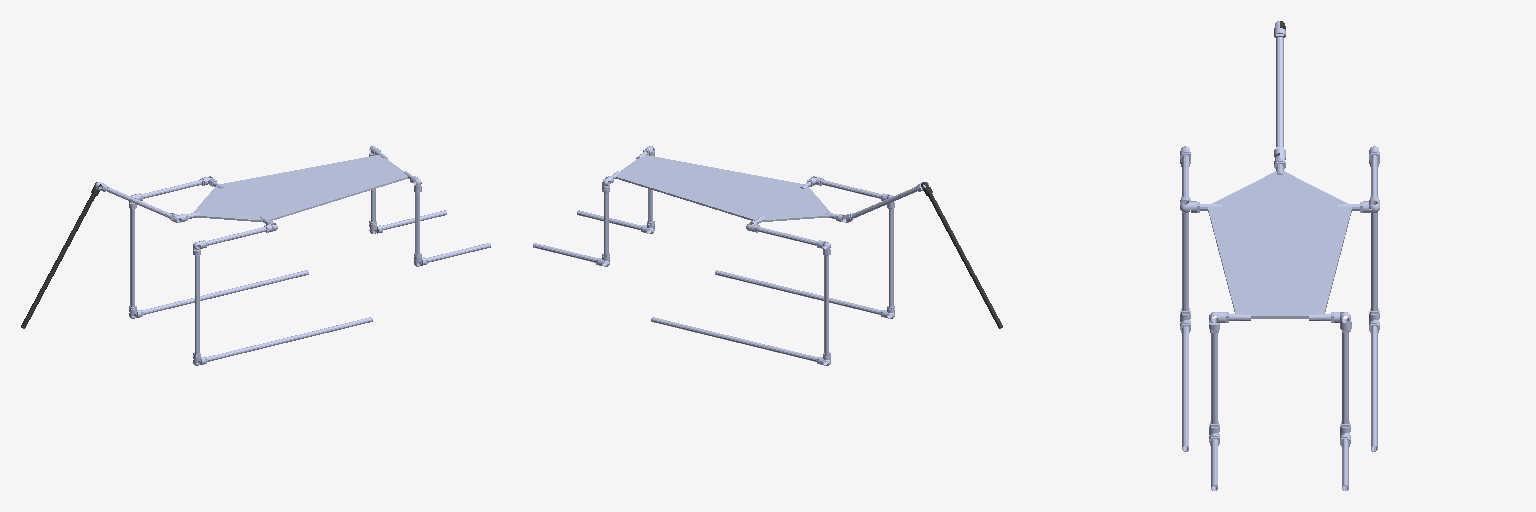
URDF robot description (Pterobot):
<?xml version="1.0" encoding="utf-8"?>
<!-- This URDF was automatically created by SolidWorks to URDF Exporter! Originally created by [author] ([email redacted]) 
     Commit Version: 1.6.0-4-g7f85cfe  Build Version: 1.6.7995.38578
     For more information, please see http://wiki.ros.org/sw_urdf_exporter -->
<robot
  name="Pterobot">
  <link
    name="torso">
    <inertial>
      <origin
        xyz="0.00585234292922584 -4.61140632321342E-06 -1.91001349893364E-10"
        rpy="0 0 0" />
      <mass
        value="0.0773188746224288" />
      <inertia
        ixx="6.9860296096866E-05"
        ixy="1.40112923199812E-09"
        ixz="4.97237598808152E-14"
        iyy="0.000482895505579539"
        iyz="2.80017694202807E-09"
        izz="0.000552618237292802" />
    </inertial>
    <visual>
      <origin
        xyz="0 0 0"
        rpy="0 0 0" />
      <geometry>
        <mesh
          filename="package://BA14/meshes/torso.STL" />
      </geometry>
      <material
        name="">
        <color
          rgba="0.792156862745098 0.819607843137255 0.933333333333333 1" />
      </material>
    </visual>
    <collision>
      <origin
        xyz="0 0 0"
        rpy="0 0 0" />
      <geometry>
        <mesh
          filename="package://BA14/meshes/torso.STL" />
      </geometry>
    </collision>
  </link>
  <link
    name="NeckBase">
    <inertial>
      <origin
        xyz="0.000645734028304206 8.91528981195044E-09 0.00570370451483394"
        rpy="0 0 0" />
      <mass
        value="0.000552160381379268" />
      <inertia
        ixx="1.37754406098898E-08"
        ixy="-1.03297312070412E-13"
        ixz="1.40112923189962E-09"
        iyy="1.28003109152368E-08"
        iyz="-4.97237598467118E-14"
        izz="8.09062527386862E-09" />
    </inertial>
    <visual>
      <origin
        xyz="0 0 0"
        rpy="0 0 0" />
      <geometry>
        <mesh
          filename="package://BA14/meshes/NeckBase.STL" />
      </geometry>
      <material
        name="">
        <color
          rgba="0.792156862745098 0.819607843137255 0.933333333333333 1" />
      </material>
    </visual>
    <collision>
      <origin
        xyz="0 0 0"
        rpy="0 0 0" />
      <geometry>
        <mesh
          filename="package://BA14/meshes/NeckBase.STL" />
      </geometry>
    </collision>
  </link>
  <joint
    name="NeckUpDown"
    type="revolute">
    <origin
      xyz="-0.17145 0 0"
      rpy="0 0 1.5708" />
    <parent
      link="torso" />
    <child
      link="NeckBase" />
    <axis
      xyz="-1 0 0" />
    <limit
      lower="0.5"
      upper="1.5"
      effort="3"
      velocity="0" />
  </joint>
  <link
    name="Neck">
    <inertial>
      <origin
        xyz="-0.000127501350431326 1.76033779220042E-09 0.0698158019260741"
        rpy="0 0 0" />
      <mass
        value="0.00279643114473697" />
      <inertia
        ixx="3.03953806643145E-06"
        ixy="1.03297312075808E-13"
        ixz="1.40112923189963E-09"
        iyy="3.03856293673679E-06"
        iyz="4.9723759656622E-14"
        izz="2.66420198842443E-08" />
    </inertial>
    <visual>
      <origin
        xyz="0 0 0"
        rpy="0 0 0" />
      <geometry>
        <mesh
          filename="package://BA14/meshes/Neck.STL" />
      </geometry>
      <material
        name="">
        <color
          rgba="0.792156862745098 0.819607843137255 0.933333333333333 1" />
      </material>
    </visual>
    <collision>
      <origin
        xyz="0 0 0"
        rpy="0 0 0" />
      <geometry>
        <mesh
          filename="package://BA14/meshes/Neck.STL" />
      </geometry>
    </collision>
  </link>
  <joint
    name="NeckYaw"
    type="revolute">
    <origin
      xyz="0 0 0.0127"
      rpy="0 0 0" />
    <parent
      link="NeckBase" />
    <child
      link="Neck" />
    <axis
      xyz="0 0 1" />
    <limit
      lower="-1.3"
      upper="1.3"
      effort="3"
      velocity="0" />
  </joint>
  <link
    name="Head">
    <inertial>
      <origin
        xyz="8.60606560195873E-05 1.18819151739835E-09 0.0943230531777287"
        rpy="0 0 0" />
      <mass
        value="0.00414299360275159" />
      <inertia
        ixx="1.23841470155012E-05"
        ixy="-1.03297312067069E-13"
        ixz="1.40112923189945E-09"
        iyy="1.23831718858066E-05"
        iyz="-4.97237594682395E-14"
        izz="3.77728566504696E-08" />
    </inertial>
    <visual>
      <origin
        xyz="0 0 0"
        rpy="0 0 0" />
      <geometry>
        <mesh
          filename="package://BA14/meshes/Head.STL" />
      </geometry>
      <material
        name="">
        <color
          rgba="0.298039215686275 0.298039215686275 0.298039215686275 1" />
      </material>
    </visual>
    <collision>
      <origin
        xyz="0 0 0"
        rpy="0 0 0" />
      <geometry>
        <mesh
          filename="package://BA14/meshes/Head.STL" />
      </geometry>
    </collision>
  </link>
  <joint
    name="HUpDown"
    type="revolute">
    <origin
      xyz="0 0 0.127"
      rpy="-1.5708 0 0" />
    <parent
      link="Neck" />
    <child
      link="Head" />
    <axis
      xyz="1 0 0" />
    <limit
      lower="-1"
      upper="1"
      effort="3"
      velocity="0" />
  </joint>
  <link
    name="LWingBase">
    <inertial>
      <origin
        xyz="-8.91528981195044E-09 -0.000645734028303767 0.00699629548516618"
        rpy="0 0 0" />
      <mass
        value="0.000552160381379266" />
      <inertia
        ixx="1.28003109152368E-08"
        ixy="-1.03297312074626E-13"
        ixz="-4.9723759856831E-14"
        iyy="1.37754406098898E-08"
        iyz="1.40112923189963E-09"
        izz="8.09062527386861E-09" />
    </inertial>
    <visual>
      <origin
        xyz="0 0 0"
        rpy="0 0 0" />
      <geometry>
        <mesh
          filename="package://BA14/meshes/LWingBase.STL" />
      </geometry>
      <material
        name="">
        <color
          rgba="0.792156862745098 0.819607843137255 0.933333333333333 1" />
      </material>
    </visual>
    <collision>
      <origin
        xyz="0 0 0"
        rpy="0 0 0" />
      <geometry>
        <mesh
          filename="package://BA14/meshes/LWingBase.STL" />
      </geometry>
    </collision>
  </link>
  <joint
    name="LShouldRot"
    type="revolute">
    <origin
      xyz="-0.0762 -0.06985 0"
      rpy="-1.5708 0 -3.1416" />
    <parent
      link="torso" />
    <child
      link="LWingBase" />
    <axis
      xyz="0 0 1" />
    <limit
      lower="-0.3"
      upper="1.5"
      effort="3"
      velocity="0" />
  </joint>
  <link
    name="LWingProx">
    <inertial>
      <origin
        xyz="-0.000122960676808948 0.000122960676809505 0.05715"
        rpy="0 0 0" />
      <mass
        value="0.00289973737344469" />
      <inertia
        ixx="1.57843761676966E-06"
        ixy="2.06594624151742E-13"
        ixz="1.40117895565942E-09"
        iyy="1.57843761676966E-06"
        iyz="1.4011789556595E-09"
        izz="3.10223662360377E-08" />
    </inertial>
    <visual>
      <origin
        xyz="0 0 0"
        rpy="0 0 0" />
      <geometry>
        <mesh
          filename="package://BA14/meshes/LWingProx.STL" />
      </geometry>
      <material
        name="">
        <color
          rgba="0.792156862745098 0.819607843137255 0.933333333333333 1" />
      </material>
    </visual>
    <collision>
      <origin
        xyz="0 0 0"
        rpy="0 0 0" />
      <geometry>
        <mesh
          filename="package://BA14/meshes/LWingProx.STL" />
      </geometry>
    </collision>
  </link>
  <joint
    name="LShouldExt"
    type="revolute">
    <origin
      xyz="0 0 0.0127"
      rpy="0 1.5708 0" />
    <parent
      link="LWingBase" />
    <child
      link="LWingProx" />
    <axis
      xyz="0 1 0" />
    <limit
      lower="-1.5"
      upper="0.3"
      effort="3"
      velocity="0" />
  </joint>
  <link
    name="LWingDist">
    <inertial>
      <origin
        xyz="-1.11022302462516E-16 2.59261859203441E-09 0.0825500000000042"
        rpy="0 0 0" />
      <mass
        value="0.00379744567878778" />
      <inertia
        ixx="5.25117113046229E-06"
        ixy="1.0677299088109E-23"
        ixz="2.80225846379924E-09"
        iyy="5.24922087107298E-06"
        iyz="-1.5919446013748E-22"
        izz="3.8442924080188E-08" />
    </inertial>
    <visual>
      <origin
        xyz="0 0 0"
        rpy="0 0 0" />
      <geometry>
        <mesh
          filename="package://BA14/meshes/LWingDist.STL" />
      </geometry>
      <material
        name="">
        <color
          rgba="0.792156862745098 0.819607843137255 0.933333333333333 1" />
      </material>
    </visual>
    <collision>
      <origin
        xyz="0 0 0"
        rpy="0 0 0" />
      <geometry>
        <mesh
          filename="package://BA14/meshes/LWingDist.STL" />
      </geometry>
    </collision>
  </link>
  <joint
    name="LElbow"
    type="revolute">
    <origin
      xyz="0 0 0.1143"
      rpy="-1.5708 0 0" />
    <parent
      link="LWingProx" />
    <child
      link="LWingDist" />
    <axis
      xyz="-1 0 0" />
    <limit
      lower="-1.3"
      upper="1.3"
      effort="3"
      velocity="0" />
  </joint>
  <link
    name="LWingPhal">
    <inertial>
      <origin
        xyz="7.0733948136642E-05 9.76581676637167E-10 0.119367576821282"
        rpy="0 0 0" />
      <mass
        value="0.00504070190809468" />
      <inertia
        ixx="2.41642222633512E-05"
        ixy="-1.03297312079344E-13"
        ixz="1.40112923183646E-09"
        iyy="2.41632471336566E-05"
        iyz="-4.97237569950302E-14"
        izz="4.51934144946199E-08" />
    </inertial>
    <visual>
      <origin
        xyz="0 0 0"
        rpy="0 0 0" />
      <geometry>
        <mesh
          filename="package://BA14/meshes/LWingPhal.STL" />
      </geometry>
      <material
        name="">
        <color
          rgba="0.792156862745098 0.819607843137255 0.933333333333333 1" />
      </material>
    </visual>
    <collision>
      <origin
        xyz="0 0 0"
        rpy="0 0 0" />
      <geometry>
        <mesh
          filename="package://BA14/meshes/LWingPhal.STL" />
      </geometry>
    </collision>
  </link>
  <joint
    name="LWrist"
    type="revolute">
    <origin
      xyz="0 0 0.1651"
      rpy="-1.5708 0 0" />
    <parent
      link="LWingDist" />
    <child
      link="LWingPhal" />
    <axis
      xyz="-1 0 0" />
    <limit
      lower="-1.3"
      upper="1.3"
      effort="3"
      velocity="0" />
  </joint>
  <link
    name="RWingBase">
    <inertial>
      <origin
        xyz="-8.91528981195044E-09 -0.000645734028303765 0.00699629548516618"
        rpy="0 0 0" />
      <mass
        value="0.000552160381379266" />
      <inertia
        ixx="1.28003109152368E-08"
        ixy="-1.03297312067074E-13"
        ixz="-4.97237598611654E-14"
        iyy="1.37754406098898E-08"
        iyz="1.40112923189963E-09"
        izz="8.09062527386859E-09" />
    </inertial>
    <visual>
      <origin
        xyz="0 0 0"
        rpy="0 0 0" />
      <geometry>
        <mesh
          filename="package://BA14/meshes/RWingBase.STL" />
      </geometry>
      <material
        name="">
        <color
          rgba="0.792156862745098 0.819607843137255 0.933333333333333 1" />
      </material>
    </visual>
    <collision>
      <origin
        xyz="0 0 0"
        rpy="0 0 0" />
      <geometry>
        <mesh
          filename="package://BA14/meshes/RWingBase.STL" />
      </geometry>
    </collision>
  </link>
  <joint
    name="RShouldRot"
    type="revolute">
    <origin
      xyz="-0.0762 0.06985 0"
      rpy="1.5708 0 3.1416" />
    <parent
      link="torso" />
    <child
      link="RWingBase" />
    <axis
      xyz="0 0 -1" />
    <limit
      lower="-0.3"
      upper="1.5"
      effort="3"
      velocity="0" />
  </joint>
  <link
    name="RWingProx">
    <inertial>
      <origin
        xyz="0.000122957281556979 0.000122957281556379 0.05715"
        rpy="0 0 0" />
      <mass
        value="0.00289973737344469" />
      <inertia
        ixx="1.57843761676966E-06"
        ixy="2.06594624143565E-13"
        ixz="-1.40107950813982E-09"
        iyy="1.57843761676966E-06"
        iyz="1.40107950813974E-09"
        izz="3.10223662360377E-08" />
    </inertial>
    <visual>
      <origin
        xyz="0 0 0"
        rpy="0 0 0" />
      <geometry>
        <mesh
          filename="package://BA14/meshes/RWingProx.STL" />
      </geometry>
      <material
        name="">
        <color
          rgba="0.792156862745098 0.819607843137255 0.933333333333333 1" />
      </material>
    </visual>
    <collision>
      <origin
        xyz="0 0 0"
        rpy="0 0 0" />
      <geometry>
        <mesh
          filename="package://BA14/meshes/RWingProx.STL" />
      </geometry>
    </collision>
  </link>
  <joint
    name="RShouldExt"
    type="revolute">
    <origin
      xyz="0 0 0.0127"
      rpy="0 1.5708 0" />
    <parent
      link="RWingBase" />
    <child
      link="RWingProx" />
    <axis
      xyz="0 1 0" />
    <limit
      lower="-1.5"
      upper="0.3"
      effort="3"
      velocity="0" />
  </joint>
  <link
    name="RWingDist">
    <inertial>
      <origin
        xyz="-9.71445146547012E-17 2.5926212288141E-09 0.0825499999999996"
        rpy="0 0 0" />
      <mass
        value="0.00379744567878777" />
      <inertia
        ixx="5.25117113046228E-06"
        ixy="2.44476929149704E-23"
        ixz="2.80225846379927E-09"
        iyy="5.24922087107297E-06"
        iyz="-1.55743591263034E-22"
        izz="3.84429240801879E-08" />
    </inertial>
    <visual>
      <origin
        xyz="0 0 0"
        rpy="0 0 0" />
      <geometry>
        <mesh
          filename="package://BA14/meshes/RWingDist.STL" />
      </geometry>
      <material
        name="">
        <color
          rgba="0.792156862745098 0.819607843137255 0.933333333333333 1" />
      </material>
    </visual>
    <collision>
      <origin
        xyz="0 0 0"
        rpy="0 0 0" />
      <geometry>
        <mesh
          filename="package://BA14/meshes/RWingDist.STL" />
      </geometry>
    </collision>
  </link>
  <joint
    name="RElbow"
    type="revolute">
    <origin
      xyz="0 0 0.1143"
      rpy="-1.5708 0 3.1416" />
    <parent
      link="RWingProx" />
    <child
      link="RWingDist" />
    <axis
      xyz="-1 0 0" />
    <limit
      lower="-1.3"
      upper="1.3"
      effort="3"
      velocity="0" />
  </joint>
  <link
    name="RWingPhal">
    <inertial>
      <origin
        xyz="7.07339481359065E-05 9.76584146883397E-10 0.119367576821284"
        rpy="0 0 0" />
      <mass
        value="0.00504070190809467" />
      <inertia
        ixx="2.41642222633512E-05"
        ixy="-1.03297312071531E-13"
        ixz="1.40112923196285E-09"
        iyy="2.41632471336565E-05"
        iyz="-4.97237570026385E-14"
        izz="4.51934144946199E-08" />
    </inertial>
    <visual>
      <origin
        xyz="0 0 0"
        rpy="0 0 0" />
      <geometry>
        <mesh
          filename="package://BA14/meshes/RWingPhal.STL" />
      </geometry>
      <material
        name="">
        <color
          rgba="0.792156862745098 0.819607843137255 0.933333333333333 1" />
      </material>
    </visual>
    <collision>
      <origin
        xyz="0 0 0"
        rpy="0 0 0" />
      <geometry>
        <mesh
          filename="package://BA14/meshes/RWingPhal.STL" />
      </geometry>
    </collision>
  </link>
  <joint
    name="RWrist"
    type="revolute">
    <origin
      xyz="0 0 0.1651"
      rpy="-1.5708 0 0" />
    <parent
      link="RWingDist" />
    <child
      link="RWingPhal" />
    <axis
      xyz="-1 0 0" />
    <limit
      lower="-1.3"
      upper="1.3"
      effort="3"
      velocity="0" />
  </joint>
  <link
    name="LLegBase">
    <inertial>
      <origin
        xyz="-0.000645734028303757 8.91528980958688E-09 0.00699629548516618"
        rpy="0 0 0" />
      <mass
        value="0.000552160381379267" />
      <inertia
        ixx="1.37754406098899E-08"
        ixy="1.03297312073489E-13"
        ixz="1.40112923189964E-09"
        iyy="1.28003109152368E-08"
        iyz="4.97237598782797E-14"
        izz="8.09062527386862E-09" />
    </inertial>
    <visual>
      <origin
        xyz="0 0 0"
        rpy="0 0 0" />
      <geometry>
        <mesh
          filename="package://BA14/meshes/LLegBase.STL" />
      </geometry>
      <material
        name="">
        <color
          rgba="0.792156862745098 0.819607843137255 0.933333333333333 1" />
      </material>
    </visual>
    <collision>
      <origin
        xyz="0 0 0"
        rpy="0 0 0" />
      <geometry>
        <mesh
          filename="package://BA14/meshes/LLegBase.STL" />
      </geometry>
    </collision>
  </link>
  <joint
    name="LHipRot"
    type="revolute">
    <origin
      xyz="0.1524 -0.04445 0"
      rpy="-1.5708 3.1416 3.1416" />
    <parent
      link="torso" />
    <child
      link="LLegBase" />
    <axis
      xyz="0 0 1" />
    <limit
      lower="-1.6"
      upper="1.6"
      effort="3"
      velocity="0" />
  </joint>
  <link
    name="LLegProx">
    <inertial>
      <origin
        xyz="-0.000122957281556986 -0.000122957281556979 0.05715"
        rpy="0 0 0" />
      <mass
        value="0.0028997373734447" />
      <inertia
        ixx="1.57843761676966E-06"
        ixy="2.06594624131838E-13"
        ixz="1.40107950813983E-09"
        iyy="1.57843761676966E-06"
        iyz="-1.4010795081398E-09"
        izz="3.10223662360378E-08" />
    </inertial>
    <visual>
      <origin
        xyz="0 0 0"
        rpy="0 0 0" />
      <geometry>
        <mesh
          filename="package://BA14/meshes/LLegProx.STL" />
      </geometry>
      <material
        name="">
        <color
          rgba="0.792156862745098 0.819607843137255 0.933333333333333 1" />
      </material>
    </visual>
    <collision>
      <origin
        xyz="0 0 0"
        rpy="0 0 0" />
      <geometry>
        <mesh
          filename="package://BA14/meshes/LLegProx.STL" />
      </geometry>
    </collision>
  </link>
  <joint
    name="LHipExt"
    type="revolute">
    <origin
      xyz="0 0 0.0127"
      rpy="1.5708 1.5708 0" />
    <parent
      link="LLegBase" />
    <child
      link="LLegProx" />
    <axis
      xyz="0 -1 0" />
    <limit
      lower="-0.3"
      upper="1.8"
      effort="3"
      velocity="0" />
  </joint>
  <link
    name="LLegDist">
    <inertial>
      <origin
        xyz="0.000151879469147971 2.09691432273562E-09 0.0450496061762181"
        rpy="0 0 0" />
      <mass
        value="0.00234757699206543" />
      <inertia
        ixx="1.56563730585442E-06"
        ixy="-1.03297312074645E-13"
        ixz="1.40112923189557E-09"
        iyy="1.56466217615977E-06"
        iyz="-4.9723759427933E-14"
        izz="2.29317409621691E-08" />
    </inertial>
    <visual>
      <origin
        xyz="0 0 0"
        rpy="0 0 0" />
      <geometry>
        <mesh
          filename="package://BA14/meshes/LLegDist.STL" />
      </geometry>
      <material
        name="">
        <color
          rgba="0.792156862745098 0.819607843137255 0.933333333333333 1" />
      </material>
    </visual>
    <collision>
      <origin
        xyz="0 0 0"
        rpy="0 0 0" />
      <geometry>
        <mesh
          filename="package://BA14/meshes/LLegDist.STL" />
      </geometry>
    </collision>
  </link>
  <joint
    name="LKnee"
    type="revolute">
    <origin
      xyz="0 0 0.1143"
      rpy="-1.5708 0 0" />
    <parent
      link="LLegProx" />
    <child
      link="LLegDist" />
    <axis
      xyz="-1 0 0" />
    <limit
      lower="-1.3"
      upper="1.3"
      effort="3"
      velocity="0" />
  </joint>
  <link
    name="RLegBase">
    <inertial>
      <origin
        xyz="0.000645734028324324 -8.91528982033507E-09 0.00699629548516616"
        rpy="0 0 0" />
      <mass
        value="0.000552160381379264" />
      <inertia
        ixx="1.37754406098897E-08"
        ixy="1.03297312073306E-13"
        ixz="-1.40112923189963E-09"
        iyy="1.28003109152367E-08"
        iyz="-4.97237598676163E-14"
        izz="8.09062527386858E-09" />
    </inertial>
    <visual>
      <origin
        xyz="0 0 0"
        rpy="0 0 0" />
      <geometry>
        <mesh
          filename="package://BA14/meshes/RLegBase.STL" />
      </geometry>
      <material
        name="">
        <color
          rgba="0.792156862745098 0.819607843137255 0.933333333333333 1" />
      </material>
    </visual>
    <collision>
      <origin
        xyz="0 0 0"
        rpy="0 0 0" />
      <geometry>
        <mesh
          filename="package://BA14/meshes/RLegBase.STL" />
      </geometry>
    </collision>
  </link>
  <joint
    name="RHipRot"
    type="revolute">
    <origin
      xyz="0.1524 0.04445 0"
      rpy="1.5708 0 3.1416" />
    <parent
      link="torso" />
    <child
      link="RLegBase" />
    <axis
      xyz="0 0 -1" />
    <limit
      lower="-1.6"
      upper="1.6"
      effort="3"
      velocity="0" />
  </joint>
  <link
    name="RLegProx">
    <inertial>
      <origin
        xyz="-0.0043411675939694 0.000122962237984026 0.0569817889646333"
        rpy="0 0 0" />
      <mass
        value="0.00289973850332923" />
      <inertia
        ixx="1.56949275761373E-06"
        ixy="2.03907189942025E-13"
        ixz="1.17137848321769E-07"
        iyy="1.57843761724558E-06"
        iyz="1.40118532452803E-09"
        izz="3.99672490915483E-08" />
    </inertial>
    <visual>
      <origin
        xyz="0 0 0"
        rpy="0 0 0" />
      <geometry>
        <mesh
          filename="package://BA14/meshes/RLegProx.STL" />
      </geometry>
      <material
        name="">
        <color
          rgba="0.792156862745098 0.819607843137255 0.933333333333333 1" />
      </material>
    </visual>
    <collision>
      <origin
        xyz="0 0 0"
        rpy="0 0 0" />
      <geometry>
        <mesh
          filename="package://BA14/meshes/RLegProx.STL" />
      </geometry>
    </collision>
  </link>
  <joint
    name="RHipExt"
    type="revolute">
    <origin
      xyz="0 0 0.0127"
      rpy="0 -1.4955 1.5708" />
    <parent
      link="RLegBase" />
    <child
      link="RLegProx" />
    <axis
      xyz="0 1 0" />
    <limit
      lower="-0.3"
      upper="1.8"
      effort="3"
      velocity="0" />
  </joint>
  <link
    name="RLegDist">
    <inertial>
      <origin
        xyz="0.000151881383622779 -0.000100941724666473 0.0450457842662787"
        rpy="0 0 0" />
      <mass
        value="0.00234757812194996" />
      <inertia
        ixx="1.56563730633035E-06"
        ixy="-1.05532899984093E-10"
        ixz="1.39714795340752E-09"
        iyy="1.56463553571617E-06"
        iyz="3.5333470739199E-10"
        izz="2.29584051053505E-08" />
    </inertial>
    <visual>
      <origin
        xyz="0 0 0"
        rpy="0 0 0" />
      <geometry>
        <mesh
          filename="package://BA14/meshes/RLegDist.STL" />
      </geometry>
      <material
        name="">
        <color
          rgba="0.792156862745098 0.819607843137255 0.933333333333333 1" />
      </material>
    </visual>
    <collision>
      <origin
        xyz="0 0 0"
        rpy="0 0 0" />
      <geometry>
        <mesh
          filename="package://BA14/meshes/RLegDist.STL" />
      </geometry>
    </collision>
  </link>
  <joint
    name="RKnee"
    type="revolute">
    <origin
      xyz="-0.0086006 0 0.11398"
      rpy="-1.5708 -0.075317 0" />
    <parent
      link="RLegProx" />
    <child
      link="RLegDist" />
    <axis
      xyz="-1 0 0" />
    <limit
      lower="-1.3"
      upper="1.3"
      effort="3"
      velocity="0" />
  </joint>
</robot>

--- Facts derived from the render (not from the file) ---
3 views of the same robot in one strip: view 1: azimuth 30°, elevation 25°; view 2: azimuth 150°, elevation 25°; view 3: azimuth 270°, elevation 25° (orthographic).
Robot: Pterobot — 18 links, 17 joints (17 revolute); root link torso; default pose: joints at zero except 1 at the middle of their limits (NeckUpDown = 1).
Links seen in each view (by area): view 1: torso, LWingPhal, RWingPhal, Head, LWingDist, RWingDist; view 2: torso, RWingPhal, LWingPhal, Head, RWingDist, LWingDist; view 3: torso, Neck, LWingPhal, RWingPhal, RLegProx, LLegProx, RWingDist, LWingDist.
Boxes of the visible links, box(x1,y1,x2,y2) form: torso: box(175, 146, 421, 227); LWingPhal: box(193, 317, 372, 364); RWingPhal: box(129, 270, 308, 317); Head: box(21, 182, 100, 328); LWingDist: box(193, 242, 200, 365); RWingDist: box(129, 195, 136, 318); torso: box(604, 146, 846, 228); RWingPhal: box(651, 317, 829, 365); LWingPhal: box(715, 270, 893, 318); Head: box(921, 182, 1002, 328); RWingDist: box(823, 242, 830, 363); LWingDist: box(887, 195, 894, 316); torso: box(1180, 155, 1379, 322); Neck: box(1274, 21, 1285, 146); LWingPhal: box(1180, 320, 1190, 451); RWingPhal: box(1369, 320, 1379, 451); RLegProx: box(1340, 312, 1351, 435); LLegProx: box(1209, 312, 1219, 434); RWingDist: box(1369, 146, 1379, 322); LWingDist: box(1180, 146, 1190, 321).
Bounding box of the posed robot: 0.6652 × 0.1753 × 0.2507 m (x, y, z).
Meshes: 18 distinct files referenced, 18 mesh visuals loaded (18 binary STL).